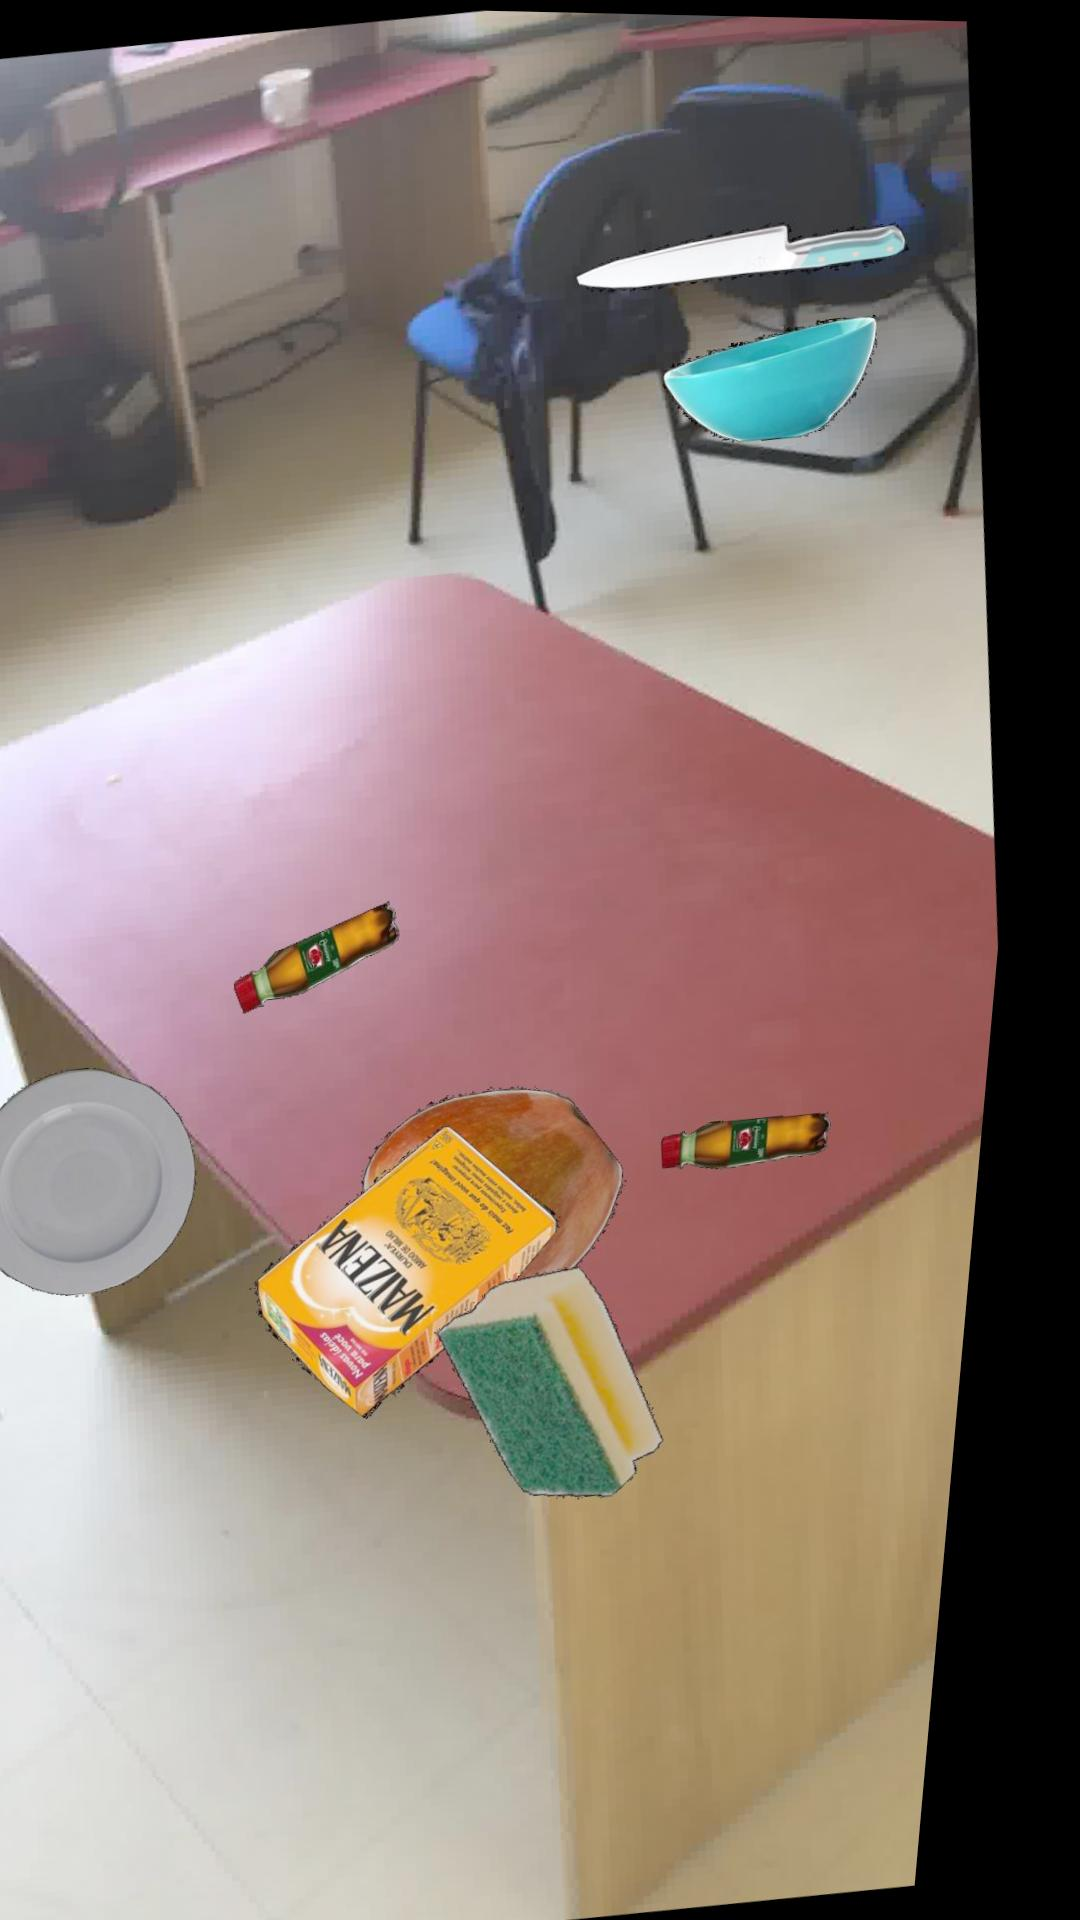apple: (385, 1081, 645, 1275)
bowl: (671, 309, 884, 436)
guarana: (253, 897, 418, 1010), (684, 1106, 853, 1163)
knife: (582, 216, 911, 286)
plate: (0, 1065, 219, 1292)
sponge: (462, 1261, 691, 1493)
